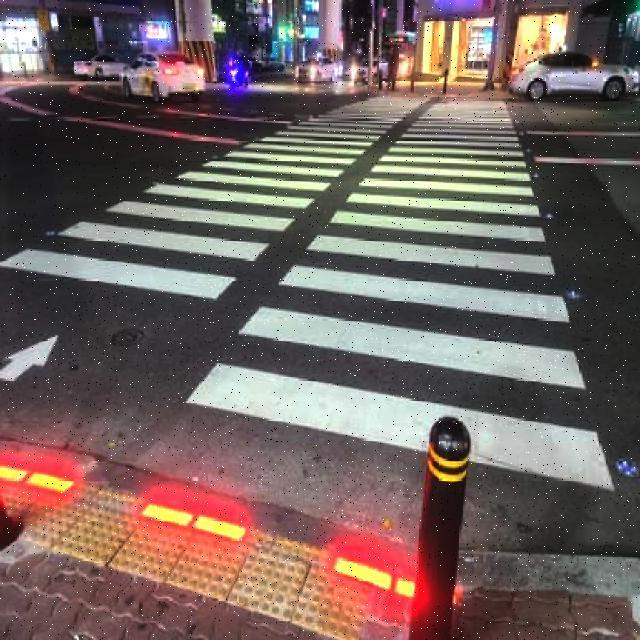Pedestrian crosswalk: (1, 94, 609, 523)
